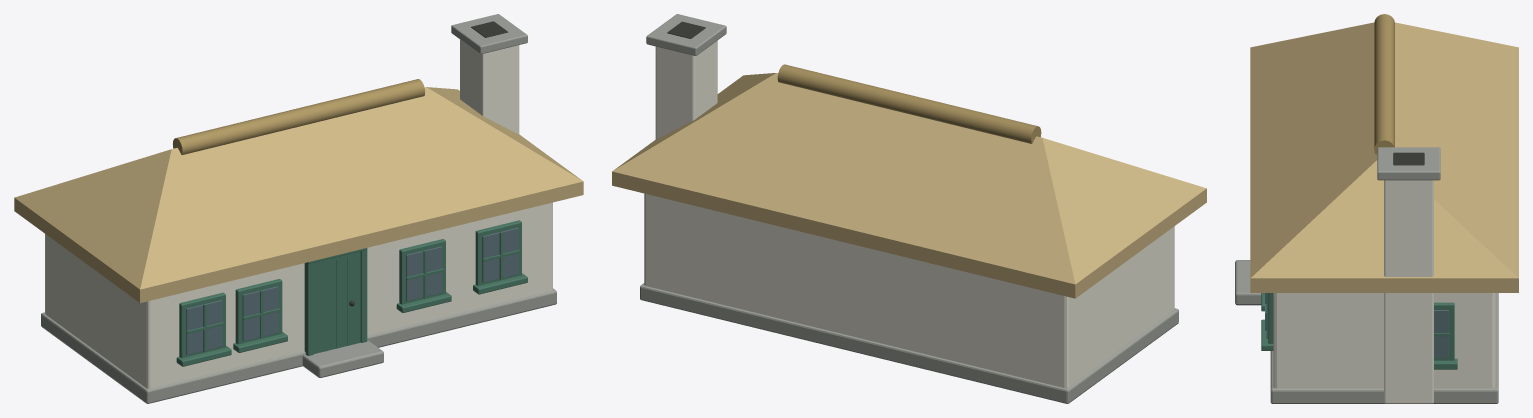
Rendered from small_irish_longhouse.glb.
The picture shows the model from 3 angles, left to right: view 1: azimuth 30°, elevation 25°; view 2: azimuth 150°, elevation 25°; view 3: azimuth 270°, elevation 25°; orthographic projection. The views are drawn at different scales.
Parts seen in each view (by area): view 1: Longhouse thick hipped thatch, Long low whitewashed house, Longhouse continuous low plinth, Longhouse thick bound ridge, Longhouse central green door closed door slab, Longhouse attached end chimney masonry shaft, Longhouse broad doorstep, Longhouse attached end chimney projecting chimney cap, Longhouse front cottage window dark glazing, Longhouse front cottage window dark glazing.002, Longhouse front cottage window dark glazing.003, Longhouse front cottage window dark glazing.001 (+10 smaller); view 2: Longhouse thick hipped thatch, Long low whitewashed house, Longhouse continuous low plinth, Longhouse thick bound ridge, Longhouse attached end chimney masonry shaft, Longhouse attached end chimney projecting chimney cap; view 3: Longhouse thick hipped thatch, Long low whitewashed house, Longhouse attached end chimney masonry shaft, Longhouse continuous low plinth, Longhouse thick bound ridge, Longhouse attached end chimney projecting chimney cap, Longhouse broad doorstep, Longhouse end window glazing, Longhouse end window surround, Longhouse attached end chimney dark chimney opening, Longhouse front cottage window timber surround.003.
Part boxes in pixels (box(x1,y1,x2,y2)): Longhouse thick hipped thatch: box(14, 87, 583, 302); Long low whitewashed house: box(45, 202, 552, 388); Longhouse continuous low plinth: box(41, 288, 556, 403); Longhouse thick bound ridge: box(173, 79, 424, 154); Longhouse central green door closed door slab: box(313, 251, 360, 353); Longhouse attached end chimney masonry shaft: box(460, 39, 519, 134); Longhouse broad doorstep: box(302, 340, 383, 377); Longhouse attached end chimney projecting chimney cap: box(451, 14, 527, 54); Longhouse front cottage window dark glazing: box(186, 300, 222, 354); Longhouse front cottage window dark glazing.002: box(406, 246, 442, 301); Longhouse front cottage window dark glazing.003: box(482, 227, 518, 282); Longhouse front cottage window dark glazing.001: box(242, 286, 278, 341); Longhouse thick hipped thatch: box(612, 73, 1206, 298); Long low whitewashed house: box(644, 193, 1174, 388); Longhouse continuous low plinth: box(640, 283, 1178, 403); Longhouse thick bound ridge: box(777, 64, 1041, 143); Longhouse attached end chimney masonry shaft: box(655, 40, 717, 139); Longhouse attached end chimney projecting chimney cap: box(646, 14, 726, 55); Longhouse thick hipped thatch: box(1250, 22, 1518, 292); Long low whitewashed house: box(1273, 293, 1495, 388); Longhouse attached end chimney masonry shaft: box(1384, 180, 1433, 403); Longhouse continuous low plinth: box(1270, 293, 1498, 403); Longhouse thick bound ridge: box(1374, 14, 1394, 154); Longhouse attached end chimney projecting chimney cap: box(1377, 147, 1440, 180); Longhouse broad doorstep: box(1235, 260, 1261, 305); Longhouse end window glazing: box(1434, 310, 1448, 358); Longhouse end window surround: box(1434, 302, 1454, 360); Longhouse attached end chimney dark chimney opening: box(1393, 152, 1424, 165); Longhouse front cottage window timber surround.003: box(1268, 293, 1273, 343).
Size of the model in its own units: 7.94 by 3.88 by 4.08.
